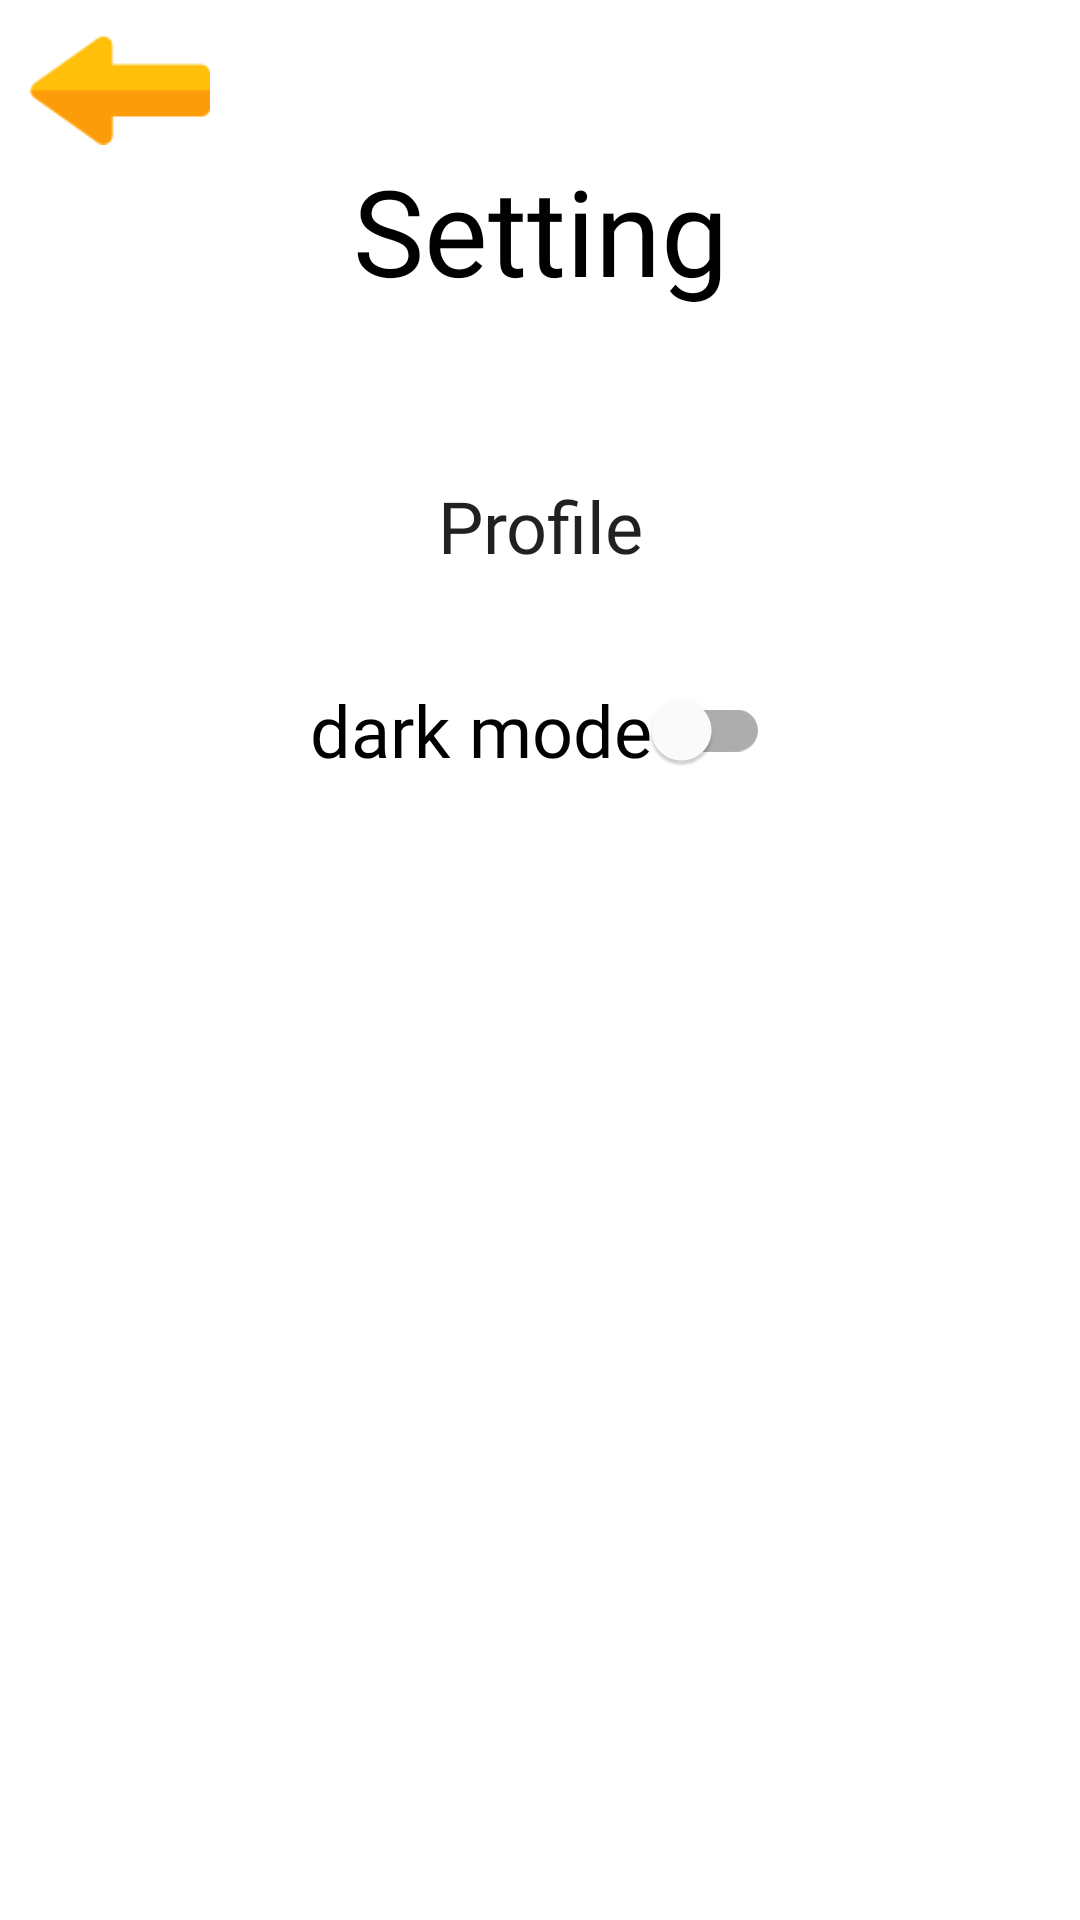

Icon click points for this 1080*1920 phone screenshot, format point (x, y):
back: point (120, 90)
